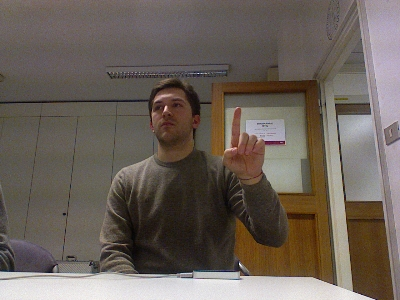食指: (221, 105, 265, 180)
